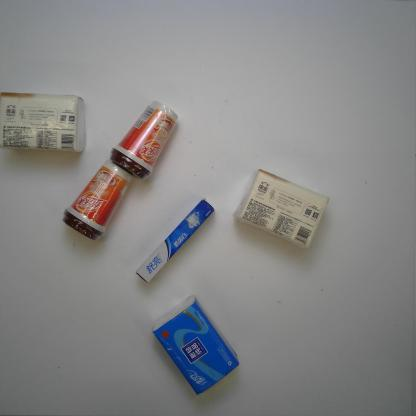Instant Drink: (60, 157, 134, 242), (108, 97, 180, 182)
Personal Hygiene: (133, 196, 218, 285)
Tissue: (151, 293, 242, 399), (230, 167, 335, 250), (0, 90, 88, 156)
